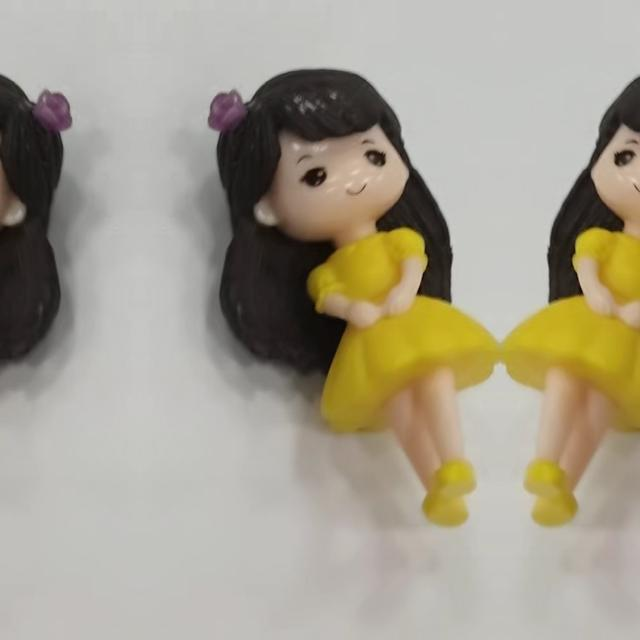woman dress: (298, 221, 500, 535), (499, 221, 640, 535)
woman head: (196, 53, 440, 253), (0, 53, 83, 253), (560, 53, 640, 253)
